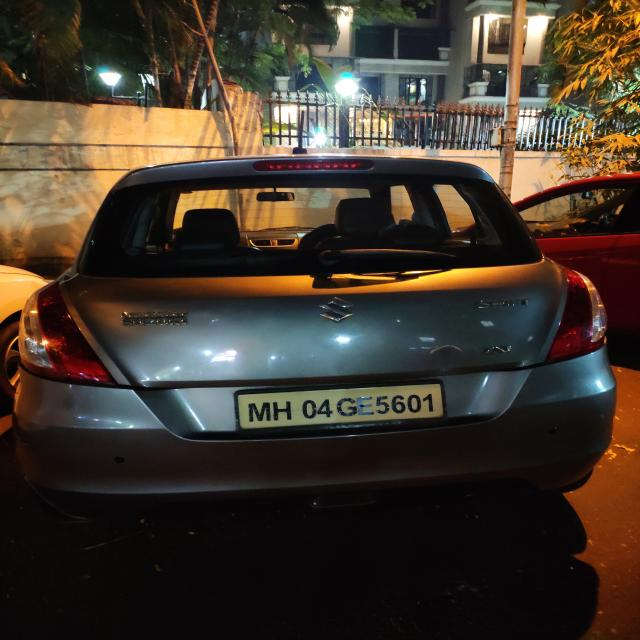Number-Plate: (239, 388, 448, 424)
